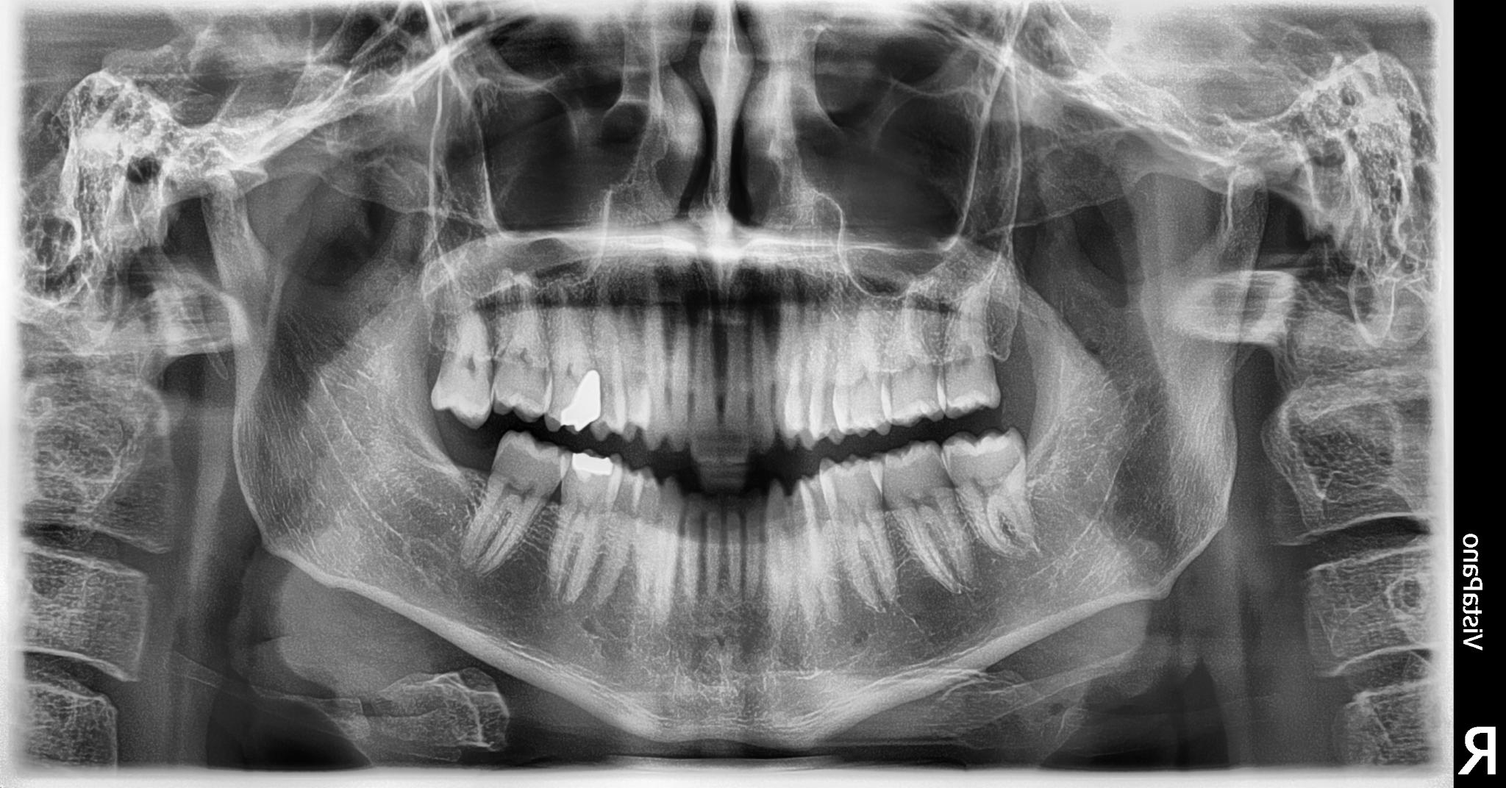Premolars: (499, 193, 1498, 481), (281, 218, 788, 643)
